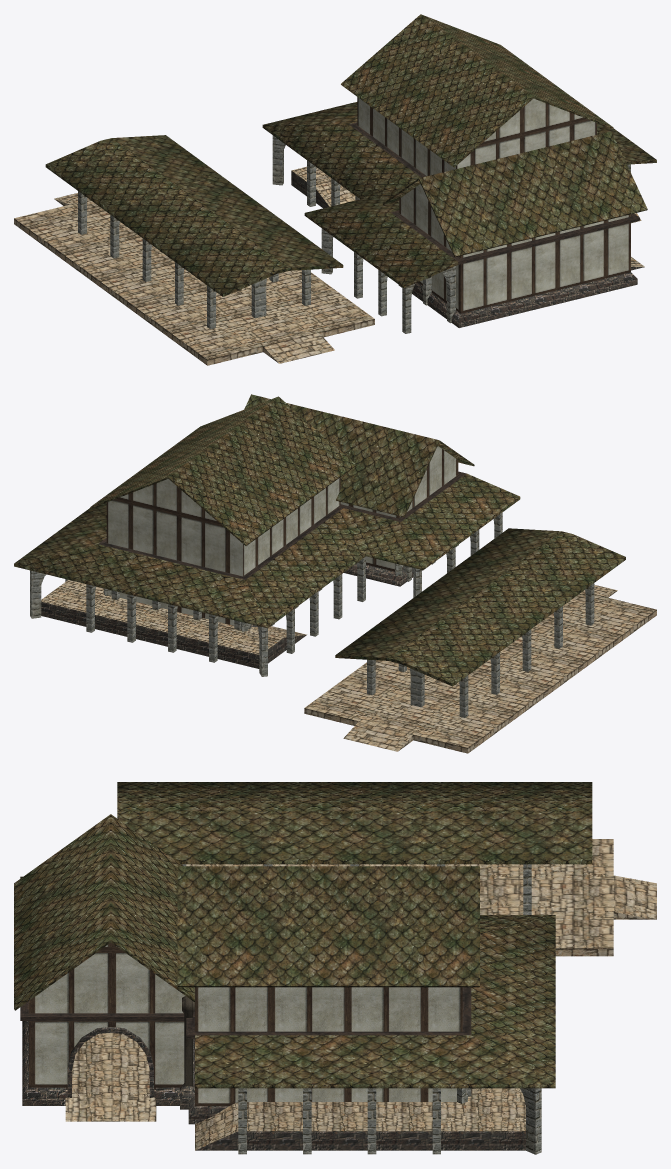
The model's file is Brewery.fbx.
3 views of the same model, one above another, from view 1: azimuth 30°, elevation 25°; view 2: azimuth 150°, elevation 25°; view 3: azimuth 270°, elevation 25° (orthographic). The views are drawn at different scales.
Parts seen in each view (by area): view 1: Roof, Platform, Building_main_Roof, Brew_House_Roof, Porch_Roof, Brew_House_Outside, Building_main, Brew_House_Base, Arch_Storage, Archways, Brew_House_mid_trim, Arch_Corners (+1 smaller); view 2: Porch_Roof, Roof, Platform, Building_main_Roof, Building_main, Brew_House_Roof, Ramp_Porch_Floor, Archways, Ramp_Porch, Arch_Storage, Brew_House_Outside, Arch_Corners (+3 smaller); view 3: Roof, Building_main_Roof, Porch_Roof, Brew_House_Roof, Building_main, Brew_House_Outside, Platform, Ramp_Porch_Floor, Brew_Garage_Floor, Ramp_Porch, Archways, Building_main_mid_Trim (+7 smaller).
Part boxes in pixels (x1,y1,x2,y2): Roof: (45,135,343,296); Platform: (14,193,374,365); Building_main_Roof: (341,14,613,167); Brew_House_Roof: (383,131,647,256); Porch_Roof: (262,102,656,288); Brew_House_Outside: (399,184,630,313); Building_main: (357,97,596,175); Brew_House_Base: (412,267,644,327); Arch_Storage: (78,191,310,329); Archways: (307,160,630,333); Brew_House_mid_trim: (391,210,639,264); Arch_Corners: (272,135,333,274); Porch_Roof: (14,473,520,628); Roof: (335,528,625,686); Platform: (304,584,656,753); Building_main_Roof: (90,396,356,545); Building_main: (106,477,340,625); Brew_House_Roof: (244,394,474,517); Ramp_Porch_Floor: (41,580,306,654); Archways: (65,512,502,662); Ramp_Porch: (41,601,306,668); Arch_Storage: (367,583,594,717); Brew_House_Outside: (340,446,458,571); Arch_Corners: (30,563,421,676); Roof: (117,782,592,864); Building_main_Roof: (177,866,479,987); Porch_Roof: (20,876,555,1088); Brew_House_Roof: (14,814,194,1010); Building_main: (195,987,462,1105); Brew_House_Outside: (29,942,185,1089); Platform: (186,839,656,956); Ramp_Porch_Floor: (195,1088,525,1150); Brew_Garage_Floor: (65,1032,156,1121); Ramp_Porch: (196,1131,525,1150); Archways: (238,1088,471,1154); Building_main_mid_Trim: (186,987,471,1038).
Size of the model in its own units: 3485 by 1092 by 2979.
10 materials, 10 textured.
